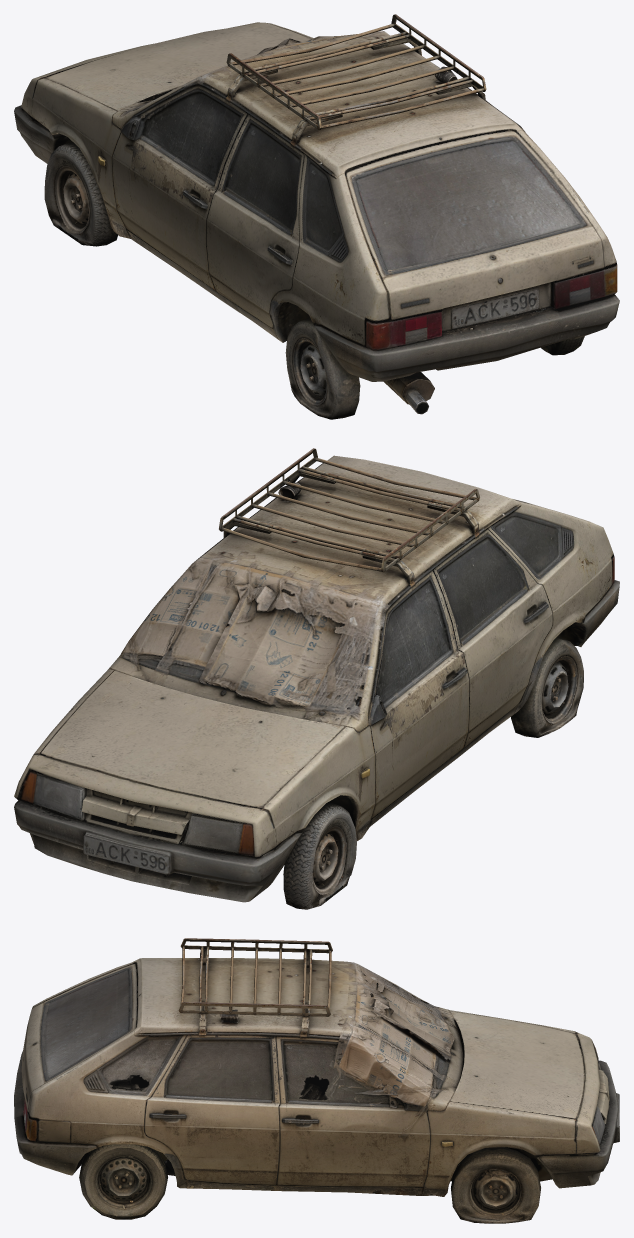
The model's file is dirty_lada_lowpoly_from_scan.glb.
3 renders of one model, top to bottom at view 1: azimuth 30°, elevation 25°; view 2: azimuth 150°, elevation 25°; view 3: azimuth 270°, elevation 25°, orthographic. The views are drawn at different scales.
Visible parts, largest first — view 1: Material; view 2: Material; view 3: Material.
Part boxes in pixels (x1,y1,x2,y2): Material: (14,14,619,419); Material: (14,448,619,909); Material: (14,938,619,1223).
Bounding box in the file's own units: 92.03 × 80.87 × 221.
1 material, 1 textured.
